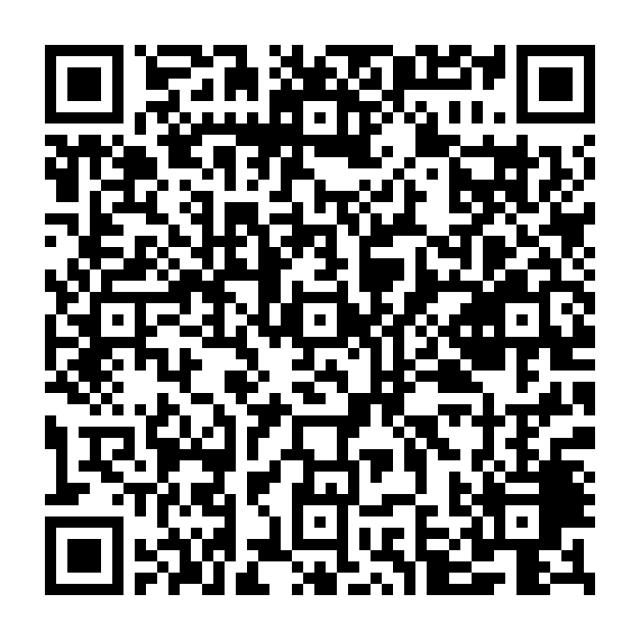QRCode: (1, 1, 631, 628)
